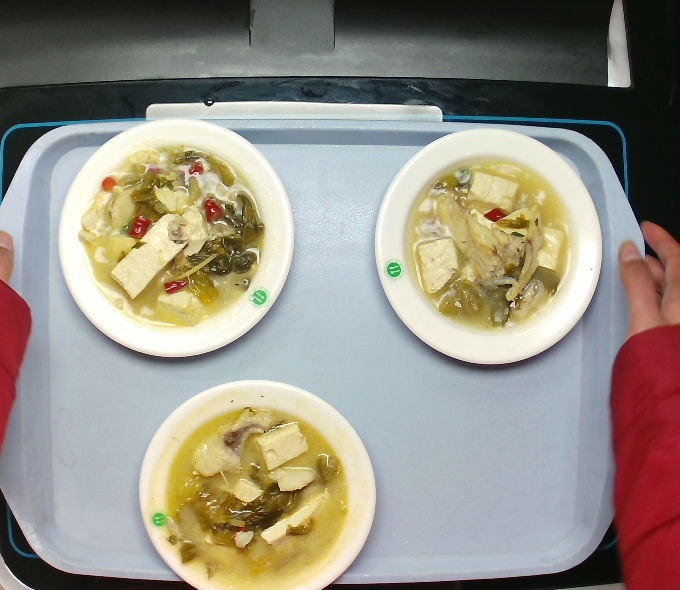wcq-SuanCaiDouFuYu: (80, 136, 269, 330), (394, 154, 580, 331), (160, 402, 347, 577)
